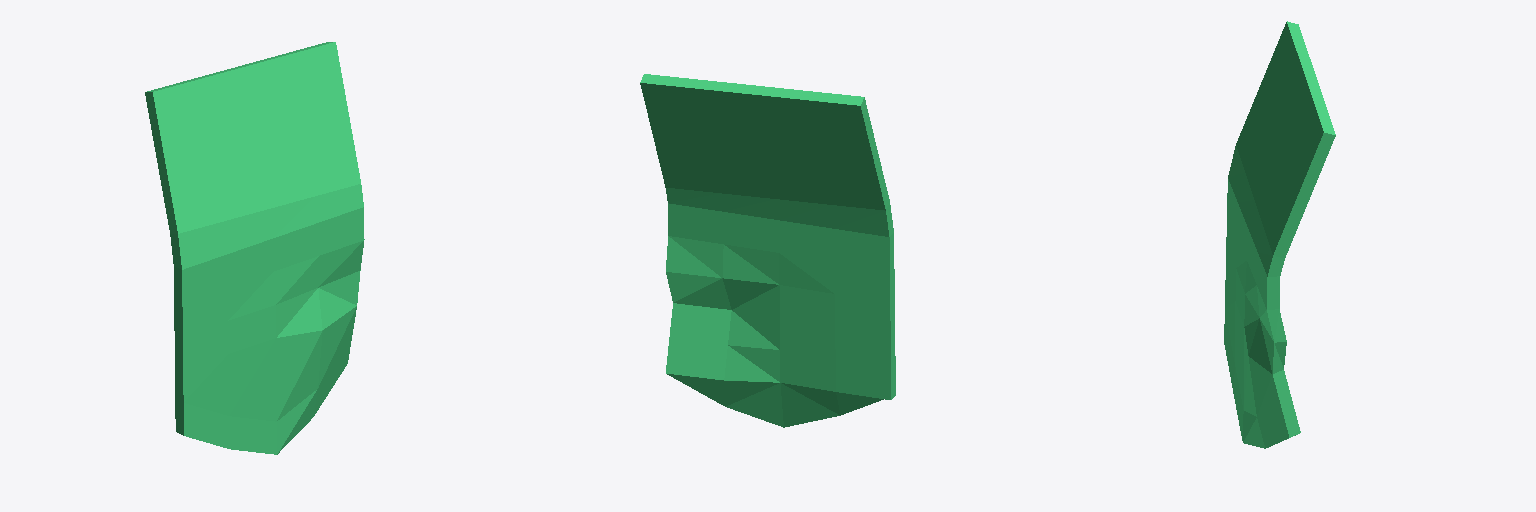
Rendered from pocket2.obj.
3 renders of one model, left to right at view 1: azimuth 30°, elevation 25°; view 2: azimuth 150°, elevation 25°; view 3: azimuth 270°, elevation 25°, orthographic.
Parts seen in each view (by area): view 1: Box001; view 2: Box001; view 3: Box001.
Boxes of the visible parts, x1,y1,x2,y2 form: Box001: [145, 42, 364, 454]; Box001: [640, 74, 895, 427]; Box001: [1224, 21, 1335, 448].
Size of the model in its own units: 62.3 by 109 by 29.61.